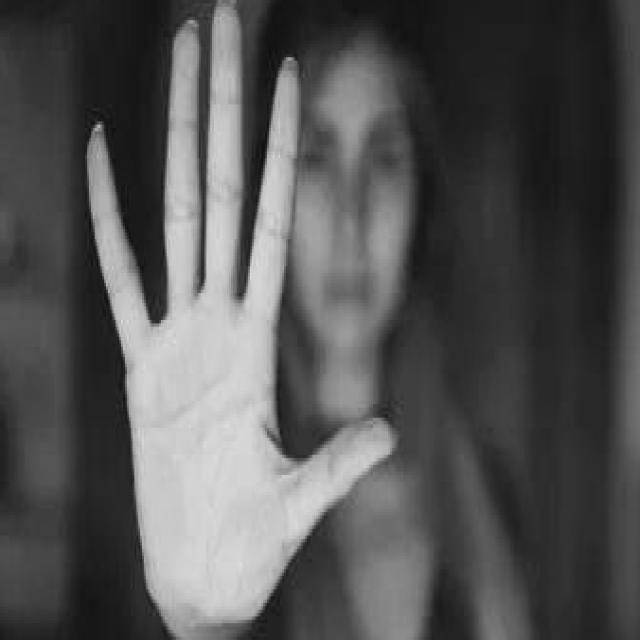stop: (80, 0, 403, 640)
